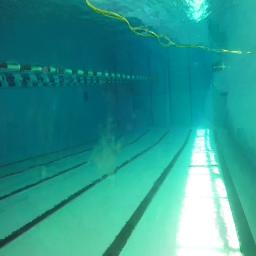Full: (212, 64, 224, 70), (220, 91, 228, 96)
